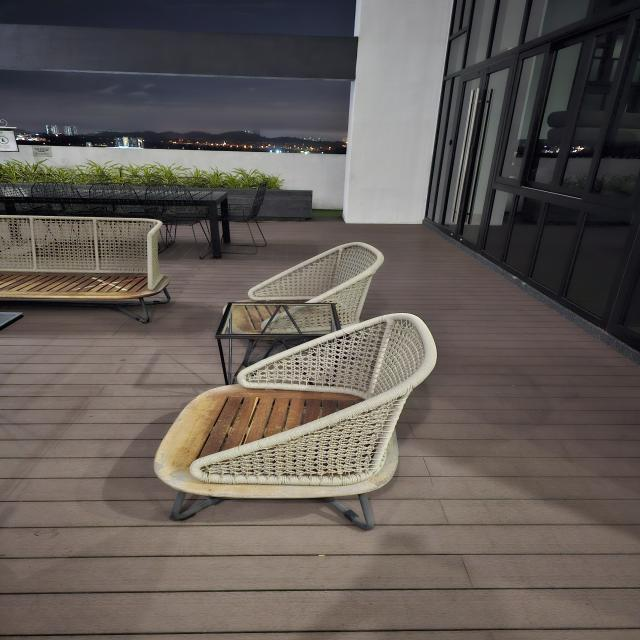footpath: (451, 309, 640, 640)
obstacle: (175, 247, 440, 533), (1, 214, 174, 326), (179, 178, 236, 253), (252, 188, 316, 223)
